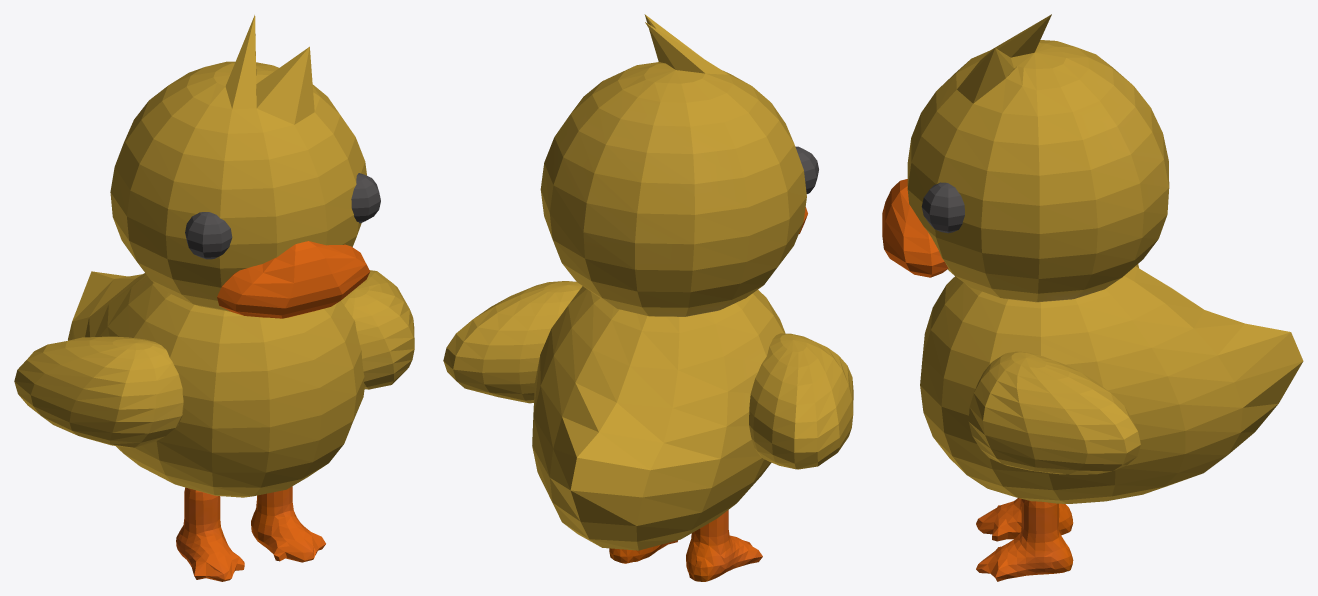
Rendered from duck(1).glb.
3 views of the same model, side by side, from view 1: azimuth 30°, elevation 25°; view 2: azimuth 150°, elevation 25°; view 3: azimuth 270°, elevation 25° (orthographic). The views are drawn at different scales.
Parts seen in each view (by area): view 1: head, body, wings, mouth, Merged 2, Eyes; view 2: head, body, wings, Merged 2, Eyes; view 3: head, body, wings, Merged 2, mouth, Eyes.
Part boxes in pixels (x1,y1,x2,y2): head: (110,15,366,311); body: (68,271,364,497); wings: (14,270,414,448); mouth: (217,241,370,318); Merged 2: (176,486,325,581); Eyes: (185,173,380,259); head: (540,14,806,316); body: (532,286,785,550); wings: (443,281,853,469); Merged 2: (609,510,762,581); Eyes: (795,146,818,193); head: (907,14,1169,302); body: (920,266,1303,503); wings: (968,264,1140,474); Merged 2: (976,498,1073,581); mouth: (882,179,948,277); Eyes: (921,182,964,233).
Bounding box in the file's own units: 1.64 × 2.25 × 1.55.
